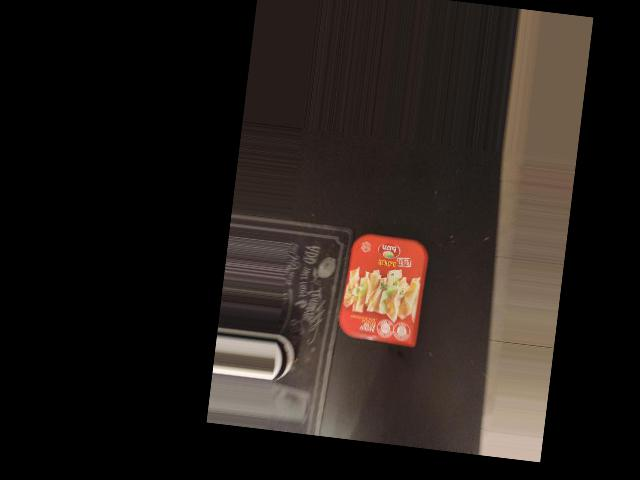cheese: (334, 232, 432, 353)
